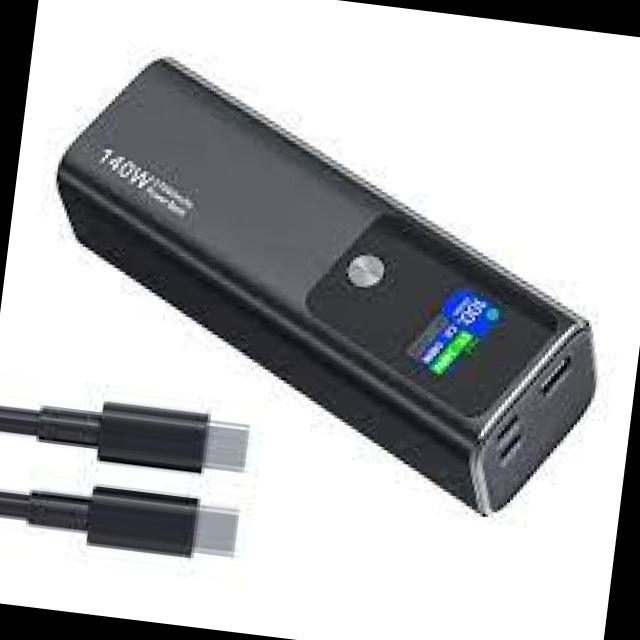power_bank: (14, 32, 636, 538)
